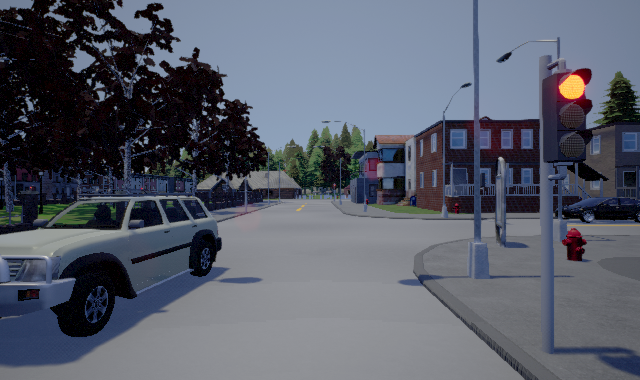traffic_light: (542, 58, 593, 181)
vehicle: (1, 189, 222, 337), (562, 197, 640, 223)
